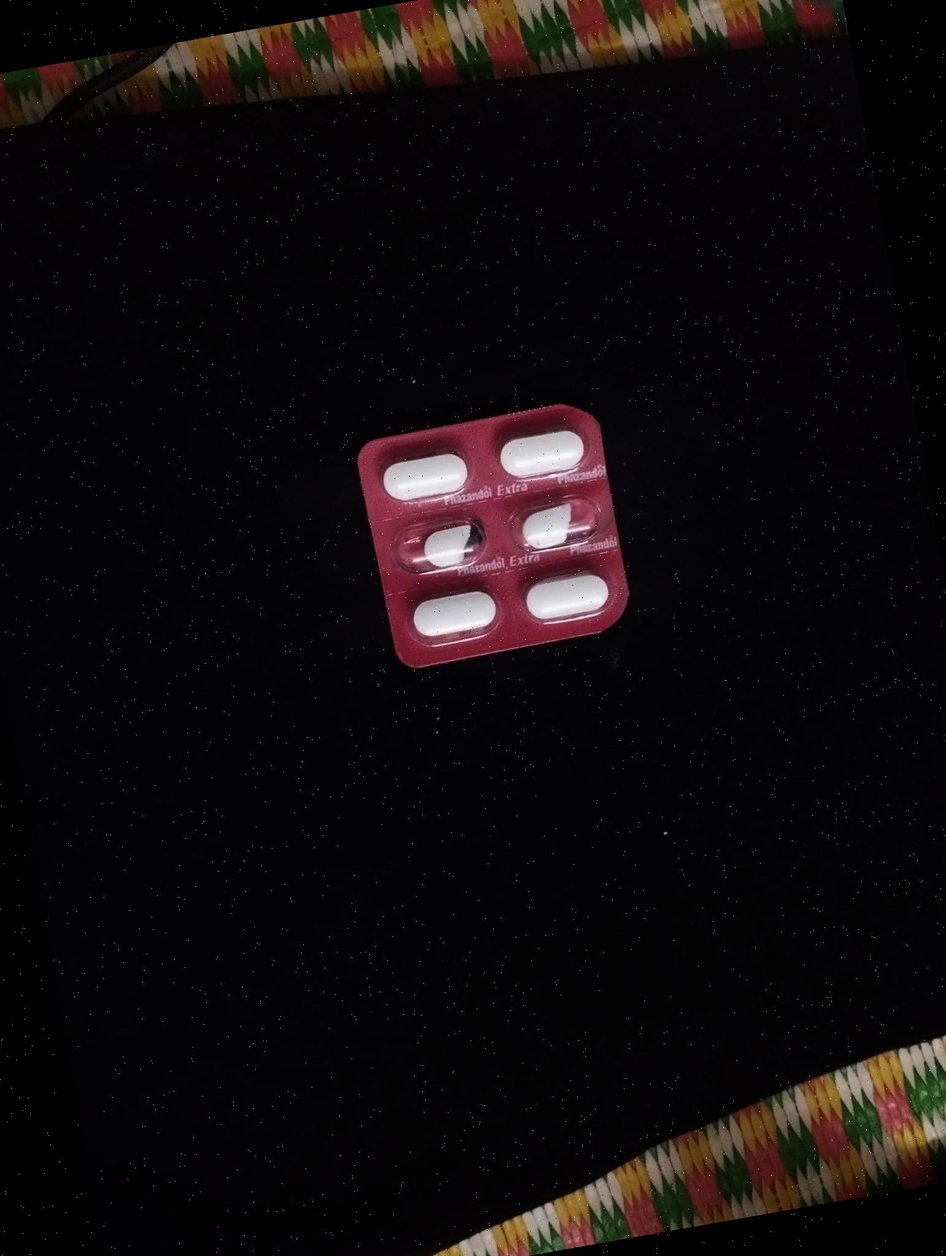Full: (489, 419, 594, 489), (406, 582, 509, 650), (375, 440, 475, 509), (520, 562, 620, 630)
Partial: (391, 509, 500, 580), (514, 486, 618, 559)
